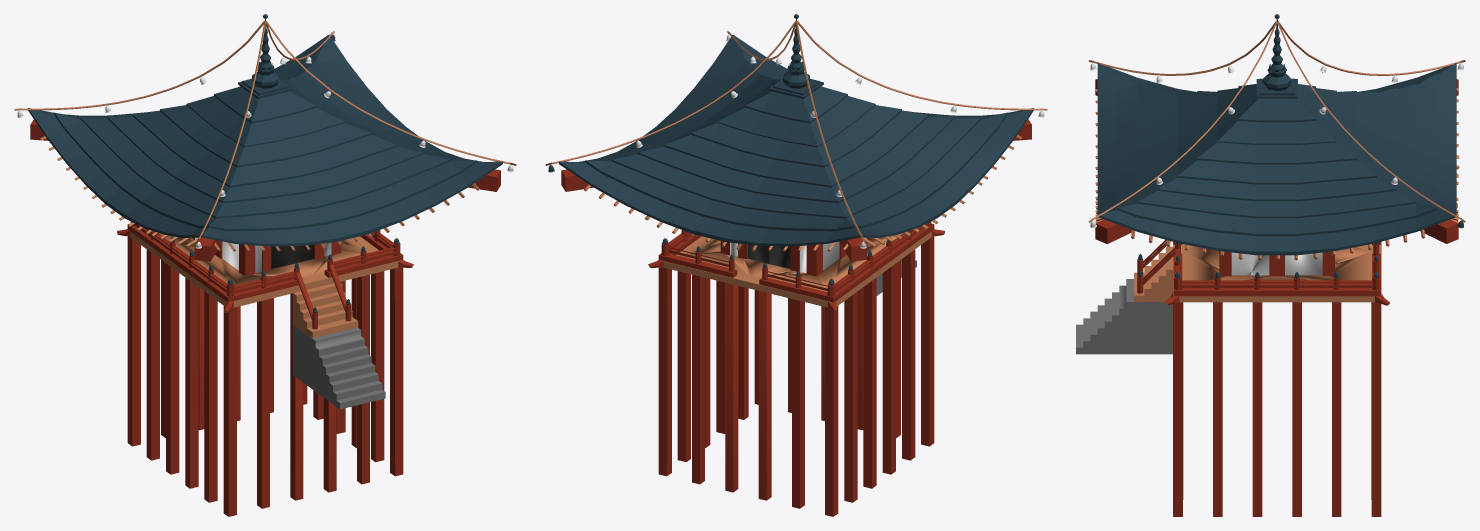
File: TempleObj.fbx
3 views of the same model, side by side, from view 1: azimuth 30°, elevation 25°; view 2: azimuth 150°, elevation 25°; view 3: azimuth 270°, elevation 25° (orthographic). The views are drawn at different scales.
Visible parts, largest first — view 1: Temple; view 2: Temple; view 3: Temple.
Part boxes in pixels (x1,y1,x2,y2): Temple: [14, 14, 516, 516]; Temple: [545, 14, 1047, 516]; Temple: [1076, 14, 1465, 516].
Size of the model in its own units: 2.66 by 3.53 by 2.72.
